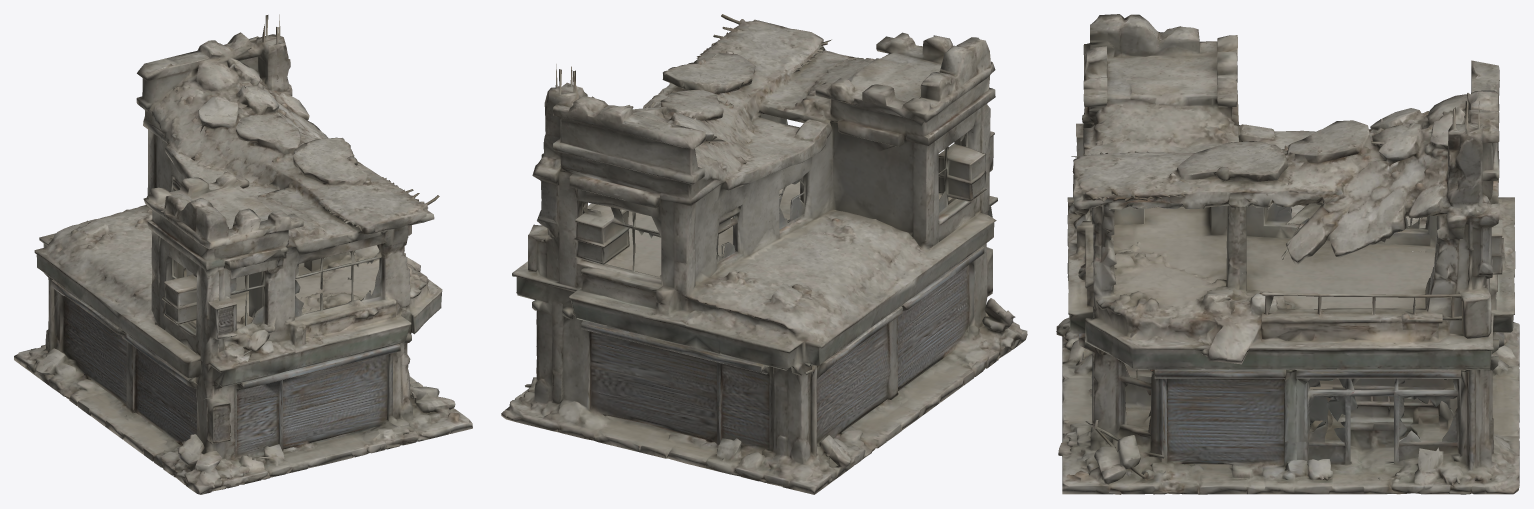
Rendered from ruined-storefront-v1.glb.
3 renders of one model, left to right at view 1: azimuth 30°, elevation 25°; view 2: azimuth 150°, elevation 25°; view 3: azimuth 270°, elevation 25°, orthographic. The views are drawn at different scales.
Visible parts, largest first — view 1: tripo_node_7cc4518d-af94-4847-b959-ee5695e95e92; view 2: tripo_node_7cc4518d-af94-4847-b959-ee5695e95e92; view 3: tripo_node_7cc4518d-af94-4847-b959-ee5695e95e92.
Part boxes in pixels (x1=…): tripo_node_7cc4518d-af94-4847-b959-ee5695e95e92: x1=14, y1=14, x2=472, y2=494; tripo_node_7cc4518d-af94-4847-b959-ee5695e95e92: x1=501, y1=14, x2=1027, y2=494; tripo_node_7cc4518d-af94-4847-b959-ee5695e95e92: x1=1056, y1=14, x2=1519, y2=494.
Size of the model in its own units: 0.873 by 0.8731 by 0.9788.
1 material, 1 textured.
